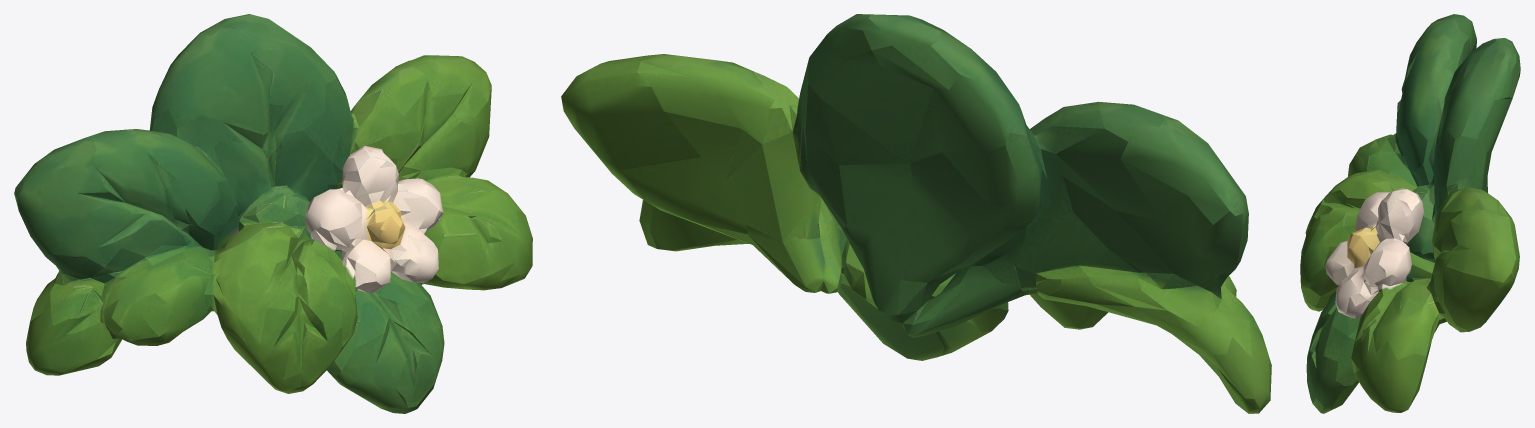
Rendered from forest-bloom.glb.
3 views of the same model, side by side, from view 1: azimuth 30°, elevation 25°; view 2: azimuth 150°, elevation 25°; view 3: azimuth 270°, elevation 25° (orthographic). The views are drawn at different scales.
Parts seen in each view (by area): view 1: forest-bloom; view 2: forest-bloom; view 3: forest-bloom.
Boxes of the visible parts, x1,y1,x2,y2 form: forest-bloom: (14, 14, 532, 413); forest-bloom: (561, 14, 1271, 413); forest-bloom: (1300, 14, 1520, 413).
Size of the model in its own units: 1.9 by 1.27 by 0.7682.
Materials: 1 (1 with a texture image).
